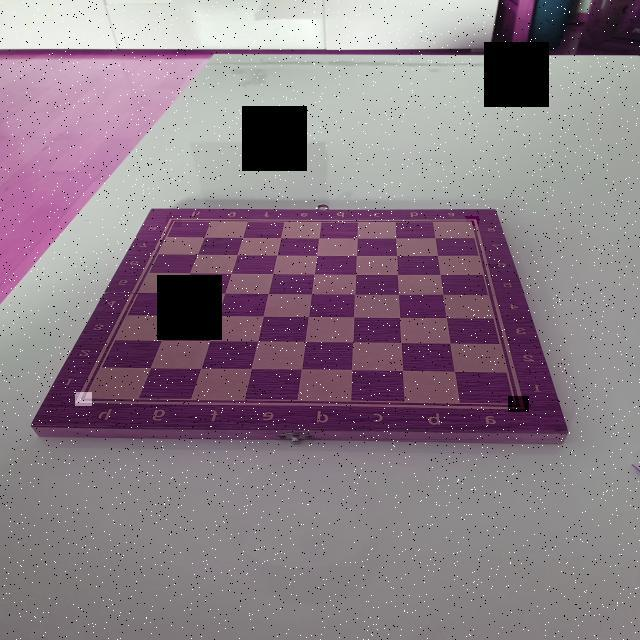chess-table-corners: (508, 397, 529, 412), (75, 392, 92, 406), (166, 215, 182, 227), (466, 216, 479, 226)
